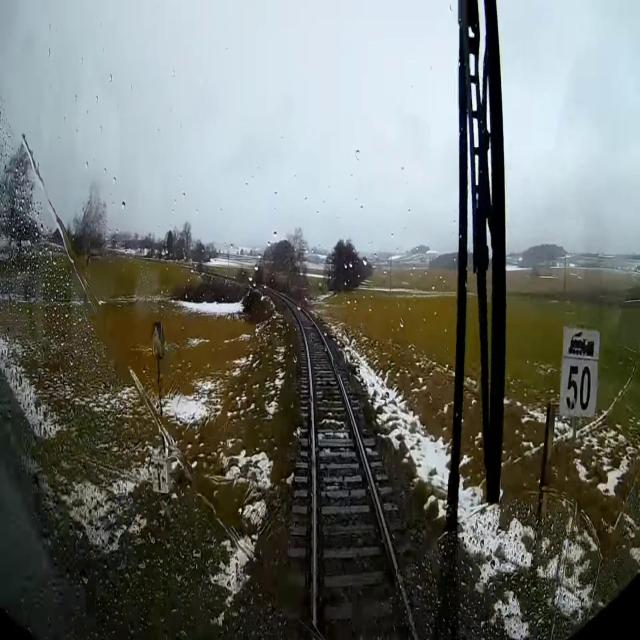rail-track: (284, 298, 413, 639)
